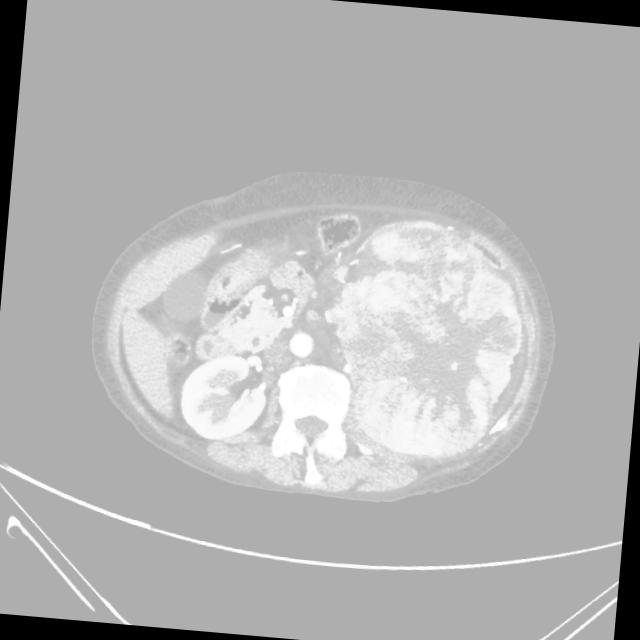TUMOR: (160, 188, 379, 442)
